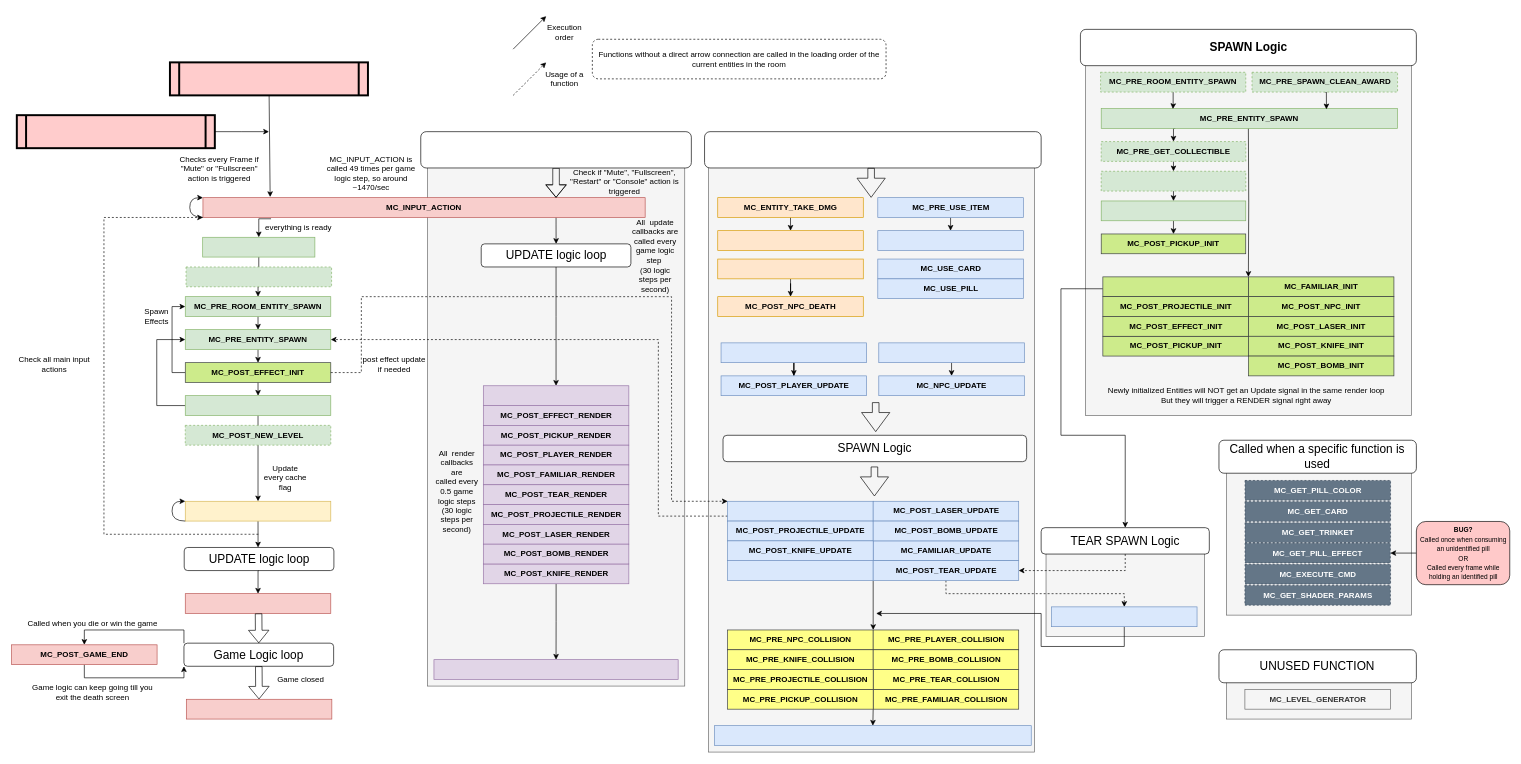
This 1521x764 diagram has some shape labels left out. Each missing label, with the centre of its shape:
"Entered new Level" goes at pixel 115 131.
"Game Logic loop (every Frame)" goes at pixel 555 149.
"Game Start" goes at pixel 269 78.
"MC_EVALUATE_CACHE" goes at pixel 258 511.
"MC_POST_CURSE_EVAL" goes at pixel 258 276.
"MC_POST_EFFECT_UPDATE" goes at pixel 800 511.
"MC_POST_ENTITY_KILL" goes at pixel 790 240.
"MC_POST_ENTITY_REMOVE" goes at pixel 790 268.
"MC_POST_FIRE_TEAR" goes at pixel 1124 616.
"MC_POST_GAME_STARTED" goes at pixel 258 603.
"MC_POST_GET_COLLECTIBLE" goes at pixel 1173 181.
"MC_POST_NEW_ROOM" goes at pixel 258 405.
"MC_POST_NPC_RENDER" goes at pixel 556 395.
"MC_POST_PEFFECT_UPDATE" goes at pixel 793 352.
"MC_POST_PICKUP_SELECTION" goes at pixel 1173 210.
"MC_POST_PICKUP_UPDATE" goes at pixel 800 570.
"MC_POST_PLAYER_INIT" goes at pixel 258 247.
"MC_POST_RENDER" goes at pixel 555 669.
"MC_POST_TEAR_INIT" goes at pixel 1175 286.
"MC_POST_UPDATE" goes at pixel 872 735.
"MC_PRE_GAME_EXIT" goes at pixel 259 709.
"MC_PRE_NPC_UPDATE" goes at pixel 951 352.
"MC_USE_ITEM" goes at pixel 950 240.
"UPDATE Logic (only if something specific changed)" goes at pixel 872 149.
